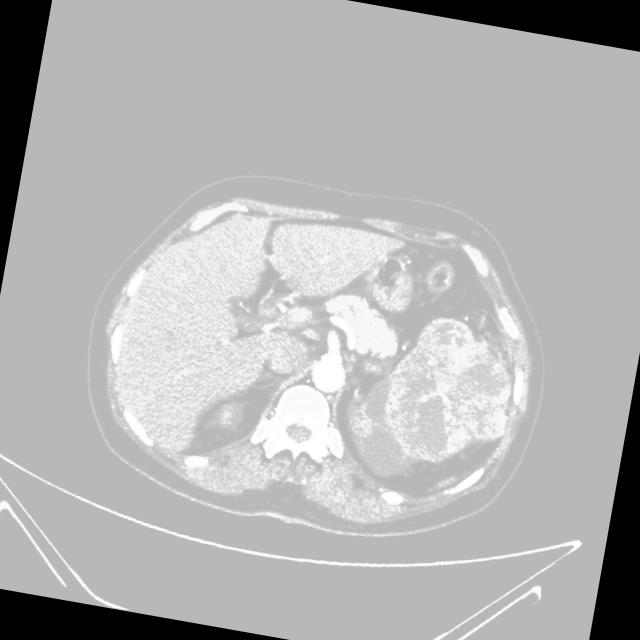TUMOR: (299, 233, 544, 474)
